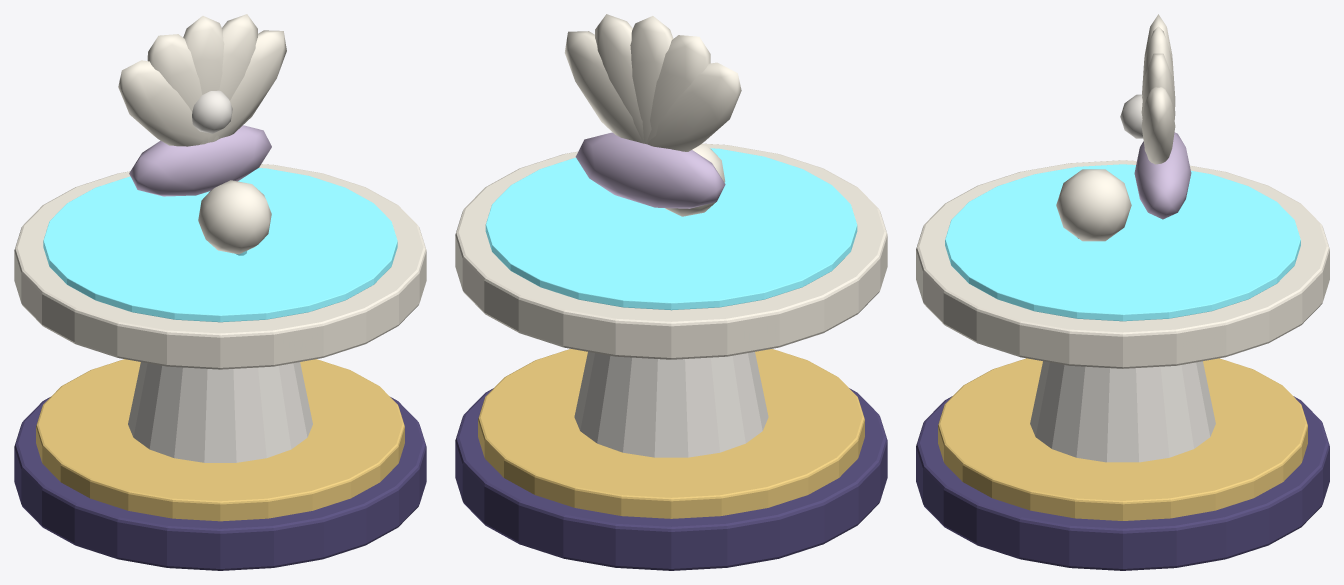
Rendered from pearl_shell_fountain.glb.
3 renders of one model, left to right at view 1: azimuth 30°, elevation 25°; view 2: azimuth 150°, elevation 25°; view 3: azimuth 270°, elevation 25°, orthographic. The views are drawn at different scales.
Parts seen in each view (by area): view 1: pearl_shell_fountain.001; view 2: pearl_shell_fountain.001; view 3: pearl_shell_fountain.001.
Boxes of the visible parts, x1,y1,x2,y2 form: pearl_shell_fountain.001: (14,14,426,570); pearl_shell_fountain.001: (455,14,887,570); pearl_shell_fountain.001: (916,14,1329,570).
Size of the model in its own units: 5.7 by 6.97 by 5.7.
